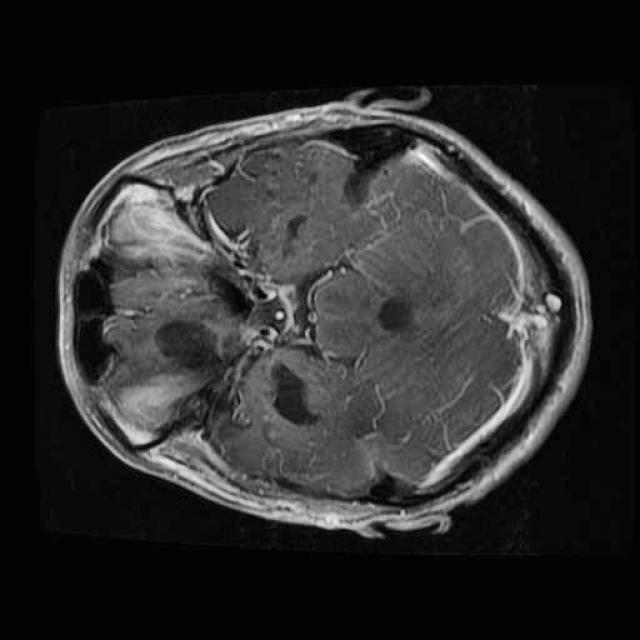Non-Tumor: (146, 305, 239, 388)
